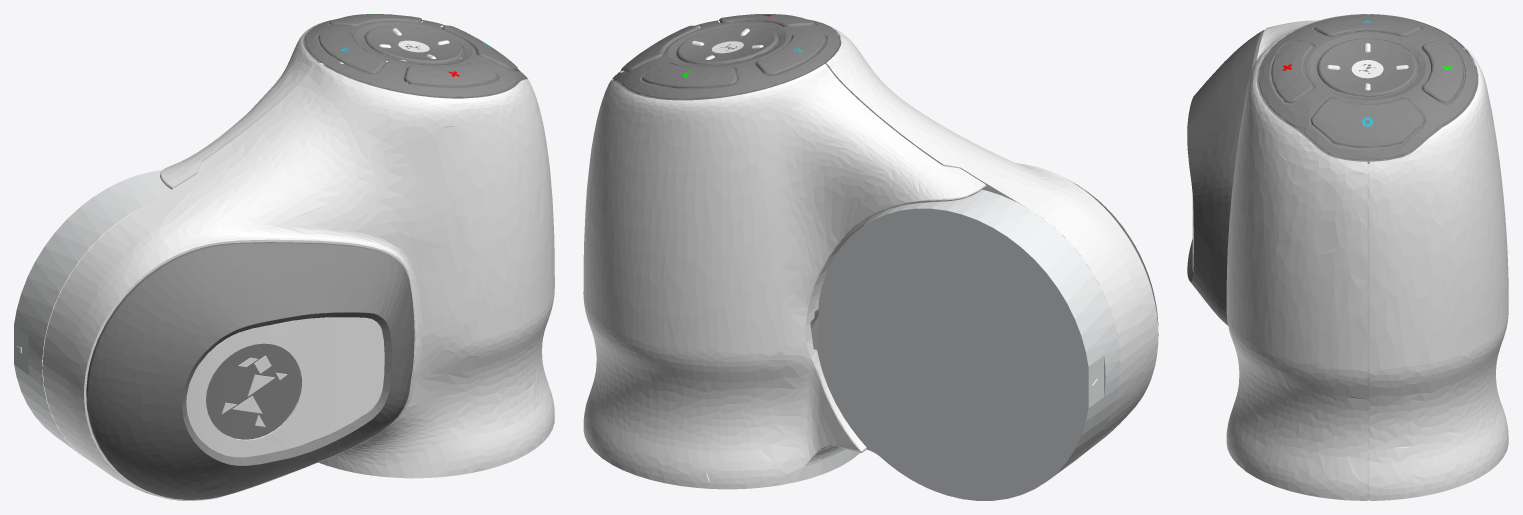
3 views of the same model, side by side, from view 1: azimuth 30°, elevation 25°; view 2: azimuth 150°, elevation 25°; view 3: azimuth 270°, elevation 25° (orthographic). The views are drawn at different scales.
Parts seen in each view (by area): view 1: geometry_0; view 2: geometry_0; view 3: geometry_0.
Part boxes in pixels (x1,y1,x2,y2): geometry_0: [14, 14, 554, 500]; geometry_0: [583, 14, 1158, 500]; geometry_0: [1187, 14, 1508, 500].
Bounding box in the file's own units: 0.1799 × 0.1329 × 0.1002.
Materials: 1 (1 with a texture image).
